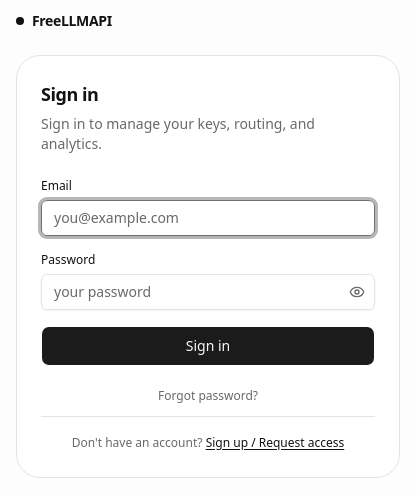
Test: shows recovery retry instead of console instructions when method discovery fails
The image size is (417, 495).
Click the button "Forgot password?" at (208, 396), box [41,388,375,404]
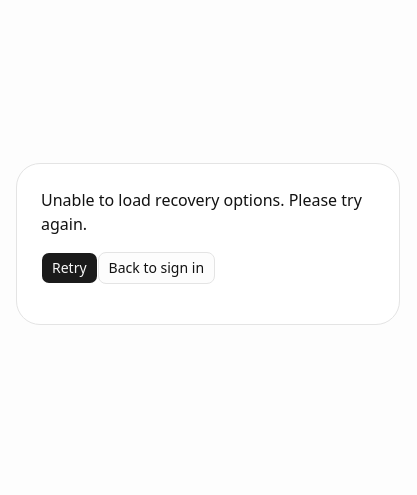
expect the text "Unable to load recovery options" is shown: met, box [41,189,362,235]
